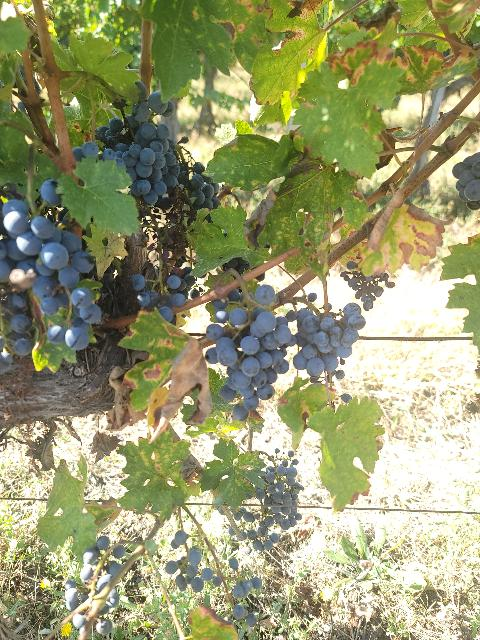grapes: (0, 179, 101, 356), (205, 308, 298, 420), (96, 81, 180, 204), (65, 536, 128, 640), (292, 302, 365, 378), (165, 162, 220, 242), (255, 449, 304, 530), (165, 530, 222, 592), (130, 274, 188, 322), (341, 261, 395, 311), (452, 152, 480, 210)
